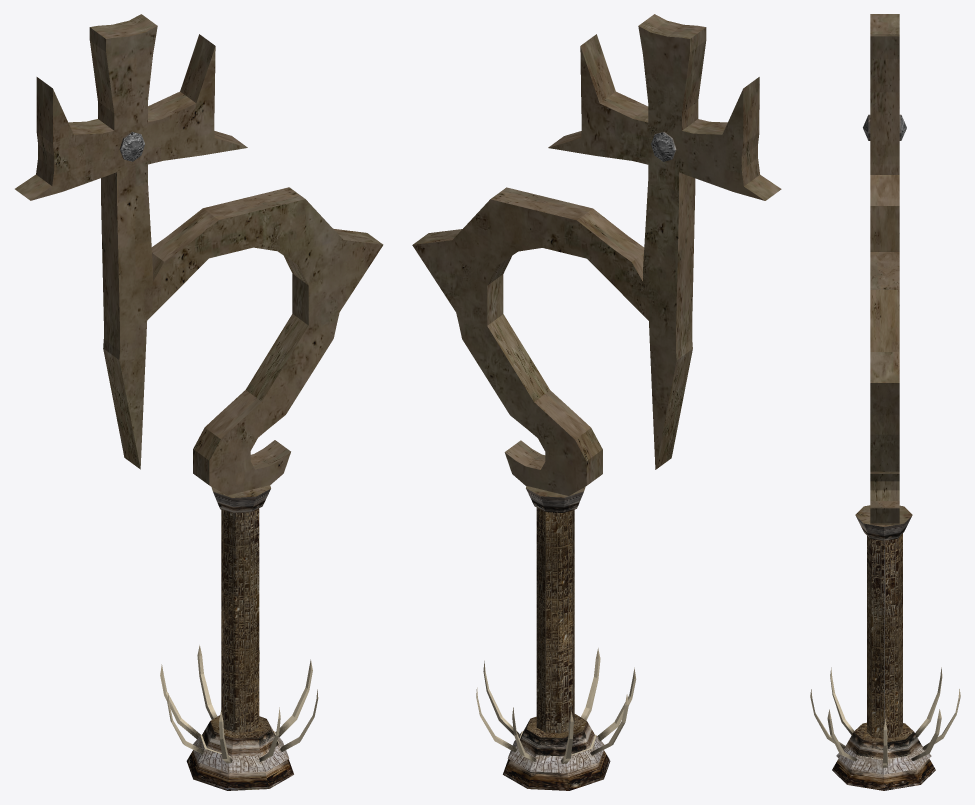
Rendered from DEMONICPILLAR2.fbx.
The picture shows the model from 3 angles, left to right: view 1: azimuth 30°, elevation 25°; view 2: azimuth 150°, elevation 25°; view 3: azimuth 270°, elevation 25°; orthographic projection. The views are drawn at different scales.
Visible parts, largest first — view 1: Mesh1; view 2: Mesh1; view 3: Mesh1.
Boxes of the visible parts, bbox=[...] form: Mesh1: bbox=[15, 14, 383, 790]; Mesh1: bbox=[412, 14, 781, 790]; Mesh1: bbox=[810, 14, 960, 790].
Bounding box in the file's own units: 10.04 × 20.91 × 4.11.
